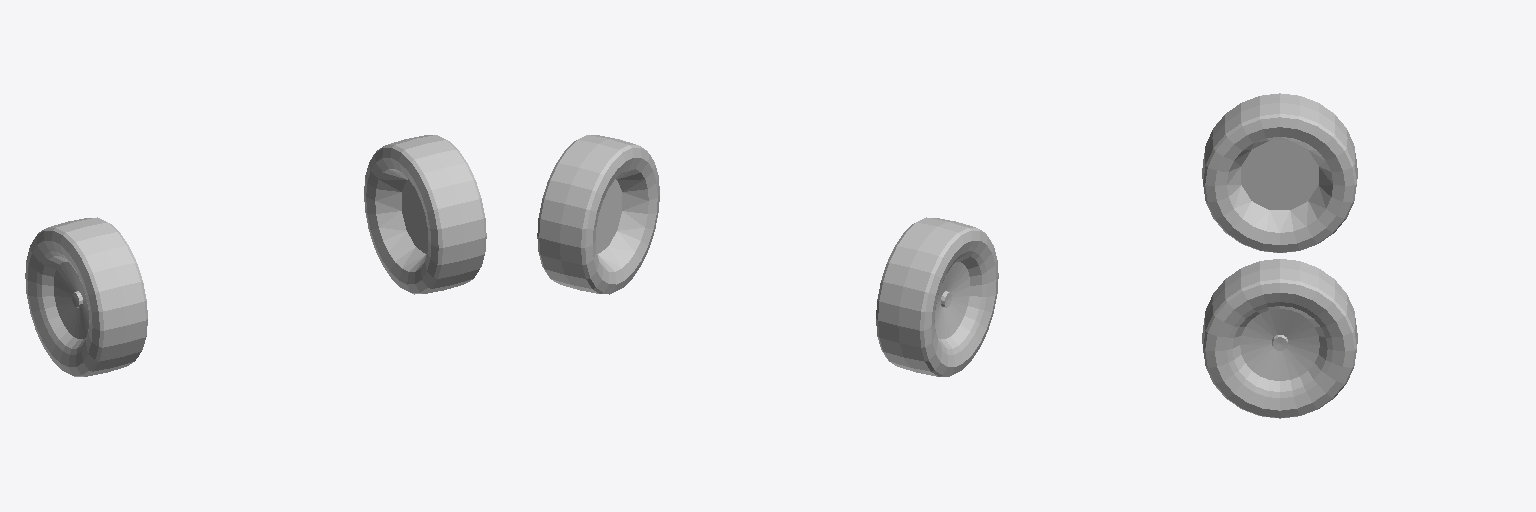
The model's file is InterceptorBackWheel.obj.
3 renders of one model, left to right at view 1: azimuth 30°, elevation 25°; view 2: azimuth 150°, elevation 25°; view 3: azimuth 270°, elevation 25°, orthographic.
Parts seen in each view (by area): view 1: InterceptorWheel.002, InterceptorWheel.001; view 2: InterceptorWheel.002, InterceptorWheel.001; view 3: InterceptorWheel.002, InterceptorWheel.001.
Boxes of the visible parts, x1,y1,x2,y2 form: InterceptorWheel.002: [25, 217, 147, 376]; InterceptorWheel.001: [364, 135, 486, 294]; InterceptorWheel.002: [876, 217, 998, 376]; InterceptorWheel.001: [537, 135, 659, 294]; InterceptorWheel.002: [1202, 93, 1357, 252]; InterceptorWheel.001: [1202, 259, 1357, 418].
Size of the model in its own units: 4.38 by 1.51 by 1.51.